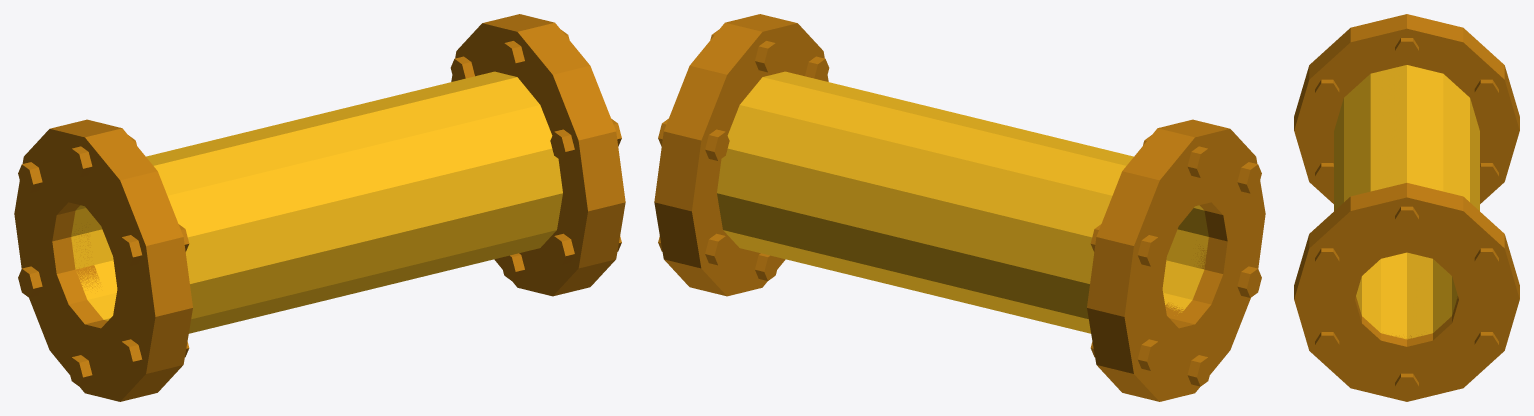
File: item_pipe_gold.fbx
3 views of the same model, side by side, from view 1: azimuth 30°, elevation 25°; view 2: azimuth 150°, elevation 25°; view 3: azimuth 270°, elevation 25° (orthographic). The views are drawn at different scales.
Parts seen in each view (by area): view 1: item_pipe_gold; view 2: item_pipe_gold; view 3: item_pipe_gold.
Boxes of the visible parts, bbox=[...] form: item_pipe_gold: bbox=[14, 14, 625, 401]; item_pipe_gold: bbox=[654, 14, 1265, 401]; item_pipe_gold: bbox=[1294, 14, 1519, 401].
Size of the model in its own units: 2.6 by 1.3 by 1.3.
